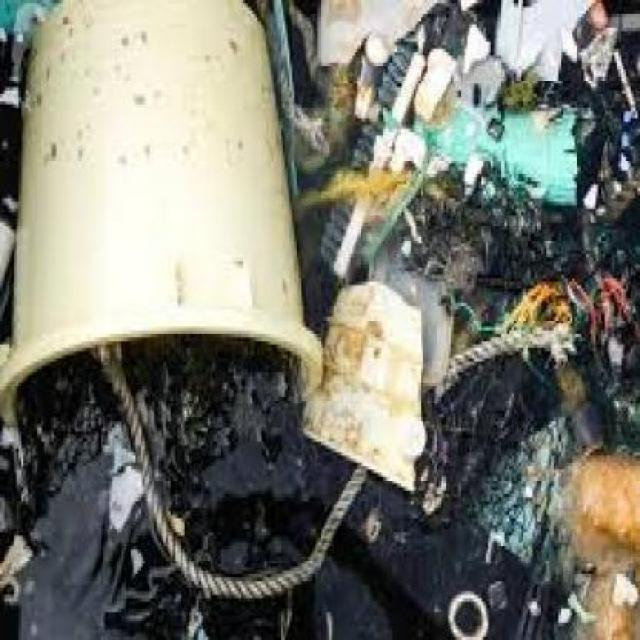garbage: (291, 0, 638, 636), (0, 347, 312, 635)
